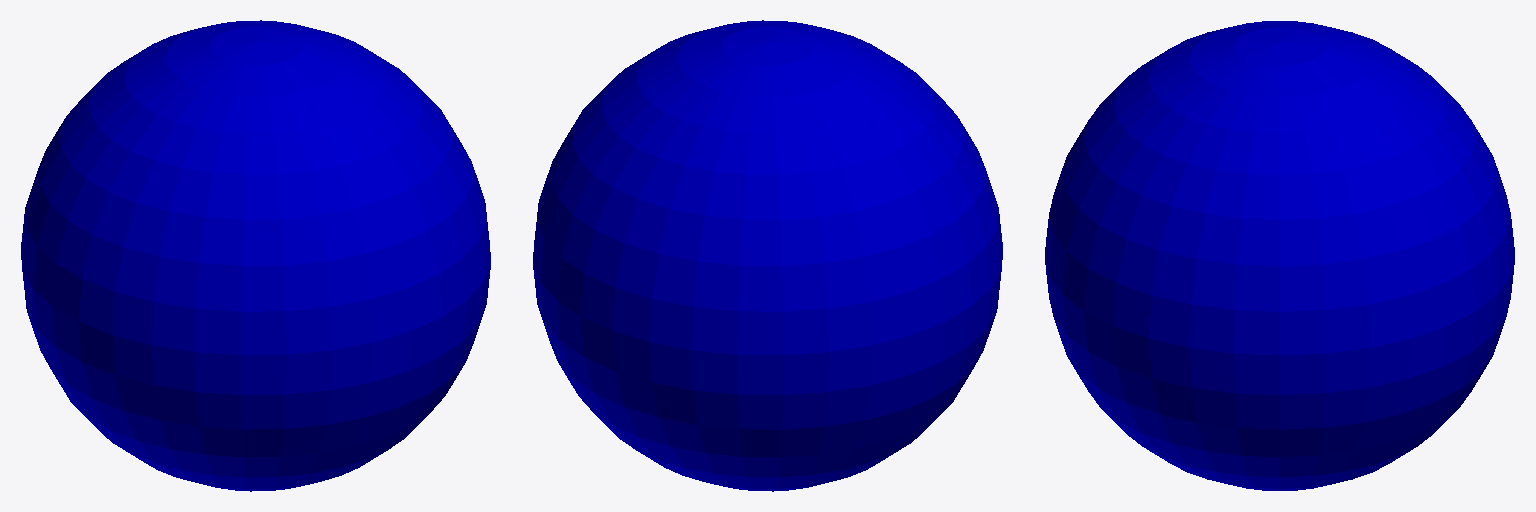
The robot description file, URDF, robot "kraft":
<?xml version="1.0" ?>
<!-- =================================================================================== -->
<!-- |    This document was autogenerated by xacro from kraft.xacro                    | -->
<!-- |    EDITING THIS FILE BY HAND IS NOT RECOMMENDED                                 | -->
<!-- =================================================================================== -->
<robot name="kraft" xmlns:xacro="http://www.ros.org/wiki/xacro">
  <material name="black">
    <color rgba="0.0 0.0 0.0 1.0"/>
  </material>
  <material name="blue">
    <color rgba="0.0 0.0 0.8 1.0"/>
  </material>
  <material name="green">
    <color rgba="0.0 0.8 0.0 1.0"/>
  </material>
  <material name="grey">
    <color rgba="0.2 0.2 0.2 1.0"/>
  </material>
  <material name="orange">
    <color rgba="1.0 0.423529411765 0.0392156862745 1.0"/>
  </material>
  <material name="brown">
    <color rgba="0.870588235294 0.811764705882 0.764705882353 1.0"/>
  </material>
  <material name="red">
    <color rgba="0.8 0.0 0.0 1.0"/>
  </material>
  <material name="white">
    <color rgba="1.0 1.0 1.0 1.0"/>
  </material>
  <material name="metal_seamed">
    <color rgba="0.4627450980392157 0.4666666666666667 0.4509803921568628 1.0"/>
  </material>
  <!-- Density: 1750 kg/m3 -->
  <!-- Create the grips robot -->
  <link name="world"/>
  <link name="base_link">
    <visual>
      <geometry>
        <mesh filename="package://kraft_description/meshes/visual/base.dae"/>
      </geometry>
      <material name="black"/>
    </visual>
    <collision>
      <origin rpy="0 0 0" xyz="0 0 0.00762"/>
      <geometry>
        <cylinder length="0.01524" radius="0.125"/>
      </geometry>
    </collision>
    <inertial>
      <origin rpy="0 0 0" xyz="0 0 0.00762"/>
      <mass value="1.208"/>
      <inertia ixx="0.0047421305984" ixy="0.0" ixz="0.0" iyy="0.0047421305984" iyz="0.0" izz="0.0094375"/>
    </inertial>
  </link>
  <link name="manifold">
    <visual>
      <geometry>
        <mesh filename="package://kraft_description/meshes/visual/manifold.dae"/>
      </geometry>
      <material name="black"/>
    </visual>
    <collision>
      <origin rpy="0 0 0" xyz="0 0 0.16906"/>
      <geometry>
        <cylinder length="0.33812" radius="0.205"/>
      </geometry>
    </collision>
    <inertial>
      <origin rpy="0 0 0" xyz="0 0 0.16906"/>
      <mass value="41.111"/>
      <inertia ixx="0.82359082711" ixy="0.0" ixz="0.0" iyy="0.82359082711" iyz="0.0" izz="0.8638448875"/>
    </inertial>
  </link>
  <link name="upper_arm">
    <visual>
      <geometry>
        <mesh filename="package://kraft_description/meshes/visual/upper_arm.dae"/>
      </geometry>
      <material name="black"/>
    </visual>
    <collision>
      <origin rpy="0 0 0" xyz="0 0 0.260835"/>
      <geometry>
        <cylinder length="0.52167" radius="0.075"/>
      </geometry>
    </collision>
    <inertial>
      <origin rpy="0 0 0" xyz="0 0 0.260835"/>
      <mass value="3.592"/>
      <inertia ixx="0.0865117002774" ixy="0.0" ixz="0.0" iyy="0.0865117002774" iyz="0.0" izz="0.0101025"/>
    </inertial>
  </link>
  <link name="forearm">
    <visual>
      <geometry>
        <mesh filename="package://kraft_description/meshes/visual/forearm.dae"/>
      </geometry>
      <material name="black"/>
    </visual>
    <collision>
      <origin rpy="1.57079632679 0 0" xyz="0 0.069139 0"/>
      <geometry>
        <cylinder length="0.385078" radius="0.075"/>
      </geometry>
    </collision>
    <inertial>
      <origin rpy="0 0 0" xyz="0 0.069139 0"/>
      <mass value="4.935"/>
      <inertia ixx="0.067922077177" ixy="0.0" ixz="0.0" iyy="0.0138796875" iyz="0.0" izz="0.067922077177"/>
    </inertial>
  </link>
  <link name="pitch">
    <visual>
      <geometry>
        <mesh filename="package://kraft_description/meshes/visual/pitch.dae"/>
      </geometry>
      <material name="black"/>
    </visual>
    <collision>
      <origin rpy="1.57079632679 0 0" xyz="0 0.0666115 0"/>
      <geometry>
        <cylinder length="0.133223" radius="0.075"/>
      </geometry>
    </collision>
    <inertial>
      <origin rpy="0 0 0" xyz="0 0.0666115 0"/>
      <mass value="0.679"/>
      <inertia ixx="0.00195910555733" ixy="0.0" ixz="0.0" iyy="0.0019096875" iyz="0.0" izz="0.00195910555733"/>
    </inertial>
  </link>
  <link name="yaw">
    <visual>
      <geometry>
        <mesh filename="package://kraft_description/meshes/visual/yaw.dae"/>
      </geometry>
      <material name="black"/>
    </visual>
    <collision>
      <origin rpy="1.57079632679 0 0" xyz="0 0.095446 0"/>
      <geometry>
        <cylinder length="0.190892" radius="0.085"/>
      </geometry>
    </collision>
    <inertial>
      <origin rpy="0 0 0" xyz="0 0.095446 0"/>
      <mass value="4.689"/>
      <inertia ixx="0.0227083407757" ixy="0.0" ixz="0.0" iyy="0.0169390125" iyz="0.0" izz="0.0227083407757"/>
    </inertial>
  </link>
  <link name="end_effector">
    <visual>
      <geometry>
        <sphere radius="0.01"/>
      </geometry>
      <material name="blue"/>
    </visual>
    <collision>
      <geometry>
        <sphere radius="0.01"/>
      </geometry>
    </collision>
    <inertial>
      <origin rpy="0 0 0" xyz="0 0 0.01"/>
      <mass value="0.05"/>
      <inertia ixx="2.91666666667e-06" ixy="0.0" ixz="0.0" iyy="2.91666666667e-06" iyz="0.0" izz="2.5e-06"/>
    </inertial>
  </link>
  <!-- Joints -->
  <joint name="anchor" type="fixed">
    <origin rpy="0 0 0" xyz="0 0 0.001"/>
    <parent link="world"/>
    <child link="base_link"/>
  </joint>
  <joint name="SA" type="revolute">
    <child link="manifold"/>
    <parent link="base_link"/>
    <axis xyz="0 0 1"/>
    <origin rpy="0 0 0" xyz="0 0 0.01524"/>
    <limit effort="400" lower="-1.57079632679" upper="1.57079632679" velocity="10"/><!--"1.3962634016"/-->
    <dynamics damping="5"/>
  </joint>
  <joint name="SE" type="revolute">
    <child link="upper_arm"/>
    <parent link="manifold"/>
    <axis xyz="1 0 0"/>
    <origin rpy="0 0 0" xyz="0 0 0.33812"/>
    <limit effort="400" lower="-1.57079632679" upper="0.523598775598" velocity="10"/><!--"1.1344640138"/-->
    <dynamics damping="5" friction="10"/>
  </joint>
  <joint name="linkage_tr" type="revolute">
    <child link="forearm"/>
    <parent link="upper_arm"/>
    <axis xyz="1 0 0"/>
    <origin rpy="0 0 0" xyz="0 -9.82e-3 0.52167"/>
    <limit effort="400" lower="-0.698131700798" upper="1.2217304764" velocity="10"/><!--"0.872664625997"/-->
    <dynamics damping="10"/>
  </joint>
  <joint name="WP" type="revolute">
    <child link="pitch"/>
    <parent link="forearm"/>
    <axis xyz="1 0 0"/>
    <origin rpy="0 0 0" xyz="0 0.26109 7.5e-3"/>
    <limit effort="400" lower="-0.610865238198" upper="1.1344640138" velocity="10"/><!--"1.74532925199"/-->
    <dynamics damping="5"/>
  </joint>
  <joint name="WY" type="revolute">
    <child link="yaw"/>
    <parent link="pitch"/>
    <axis xyz="0 0 1"/>
    <origin rpy="0 0 0" xyz="0 0.133223 0"/>
    <limit effort="400" lower="-0.680678408278" upper="1.15191730632" velocity="10"/><!--"2.00712863979"/-->
    <dynamics damping="5"/>
  </joint>
  <joint name="WR" type="revolute">
    <child link="end_effector"/>
    <parent link="yaw"/>
    <axis xyz="0 1 0"/>
    <origin rpy="0 0 0" xyz="-0.787e-3 0.190892 0.051331"/>
    <limit effort="400" lower="-0.0349065850399" upper="0.0349065850399" velocity="10"/><!--"3.49065850399"/-->
    <dynamics damping="0.5"/>
  </joint>
  <transmission name="SA_tran" type="transmission_interface/SimpleTransmission">
    <type>transmission_interface/SimpleTransmission</type>
    <joint name="SA">
      <!--hardwareInterface>hardware_interface/EffortJointInterface</hardwareInterface-->
      <hardwareInterface>hardware_interface/PositionJointInterface</hardwareInterface>
    </joint>
    <actuator name="SA_motor">
      <!--hardwareInterface>hardware_interface/EffortJointInterface</hardwareInterface-->
      <hardwareInterface>hardware_interface/PositionJointInterface</hardwareInterface>
      <mechanicalReduction>1</mechanicalReduction>
    </actuator>
    <mechanicalReduction>1</mechanicalReduction>
  </transmission>
  <transmission name="SE_tran" type="transmission_interface/SimpleTransmission">
    <type>transmission_interface/SimpleTransmission</type>
    <joint name="SE">
      <!--hardwareInterface>hardware_interface/EffortJointInterface</hardwareInterface-->
      <hardwareInterface>hardware_interface/PositionJointInterface</hardwareInterface>
    </joint>
    <actuator name="SE_motor">
      <!--hardwareInterface>hardware_interface/EffortJointInterface</hardwareInterface-->
      <hardwareInterface>hardware_interface/PositionJointInterface</hardwareInterface>
      <mechanicalReduction>1</mechanicalReduction>
    </actuator>
    <mechanicalReduction>1</mechanicalReduction>
  </transmission>
  <transmission name="linkage_tr_tran" type="transmission_interface/SimpleTransmission">
    <type>transmission_interface/SimpleTransmission</type>
    <joint name="linkage_tr">
      <!--hardwareInterface>hardware_interface/EffortJointInterface</hardwareInterface-->
      <hardwareInterface>hardware_interface/PositionJointInterface</hardwareInterface>
    </joint>
    <actuator name="linkage_tr_motor">
      <!--hardwareInterface>hardware_interface/EffortJointInterface</hardwareInterface-->
      <hardwareInterface>hardware_interface/PositionJointInterface</hardwareInterface>
      <mechanicalReduction>1</mechanicalReduction>
    </actuator>
    <mechanicalReduction>1</mechanicalReduction>
  </transmission>
  <transmission name="WP_tran" type="transmission_interface/SimpleTransmission">
    <type>transmission_interface/SimpleTransmission</type>
    <joint name="WP">
      <!--hardwareInterface>hardware_interface/EffortJointInterface</hardwareInterface-->
      <hardwareInterface>hardware_interface/PositionJointInterface</hardwareInterface>
    </joint>
    <actuator name="WP_motor">
      <!--hardwareInterface>hardware_interface/EffortJointInterface</hardwareInterface-->
      <hardwareInterface>hardware_interface/PositionJointInterface</hardwareInterface>
      <mechanicalReduction>1</mechanicalReduction>
    </actuator>
    <mechanicalReduction>1</mechanicalReduction>
  </transmission>
  <transmission name="WY_tran" type="transmission_interface/SimpleTransmission">
    <type>transmission_interface/SimpleTransmission</type>
    <joint name="WY">
      <!--hardwareInterface>hardware_interface/EffortJointInterface</hardwareInterface-->
      <hardwareInterface>hardware_interface/PositionJointInterface</hardwareInterface>
    </joint>
    <actuator name="WY_motor">
      <!--hardwareInterface>hardware_interface/EffortJointInterface</hardwareInterface-->
      <hardwareInterface>hardware_interface/PositionJointInterface</hardwareInterface>
      <mechanicalReduction>1</mechanicalReduction>
    </actuator>
    <mechanicalReduction>1</mechanicalReduction>
  </transmission>
  <transmission name="WR_tran" type="transmission_interface/SimpleTransmission">
    <type>transmission_interface/SimpleTransmission</type>
    <joint name="WR">
      <!--hardwareInterface>hardware_interface/EffortJointInterface</hardwareInterface-->
      <hardwareInterface>hardware_interface/PositionJointInterface</hardwareInterface>
    </joint>
    <actuator name="WR_motor">
      <!--hardwareInterface>hardware_interface/EffortJointInterface</hardwareInterface-->
      <hardwareInterface>hardware_interface/PositionJointInterface</hardwareInterface>
      <mechanicalReduction>1</mechanicalReduction>
    </actuator>
    <mechanicalReduction>1</mechanicalReduction>
  </transmission>
  <gazebo reference="base_link">
    <material>Telerobcar/MetalSeamed</material>
    <selfCollide>false</selfCollide>
  </gazebo>
  <gazebo reference="manifold">
    <material>Telerobcar/MetalSeamed</material>
    <selfCollide>false</selfCollide>
  </gazebo>
  <gazebo reference="upper_arm">
    <material>Telerobcar/MetalSeamed</material>
    <selfCollide>false</selfCollide>
  </gazebo>
  <gazebo reference="forearm">
    <material>Telerobcar/MetalSeamed</material>
    <selfCollide>false</selfCollide>
  </gazebo>
  <gazebo reference="pitch">
    <material>Telerobcar/MetalSeamed</material>
    <selfCollide>false</selfCollide>
  </gazebo>
  <gazebo reference="yaw">
    <material>Telerobcar/MetalSeamed</material>
    <selfCollide>false</selfCollide>
  </gazebo>
  <gazebo reference="end_effector">
    <selfCollide>false</selfCollide>
  </gazebo>
  <link name="wrist_coupling">
    <visual>
      <geometry>
        <mesh filename="package://kraft_description/meshes/visual/wrist_coupling.dae"/>
      </geometry>
      <material name="white"/>
    </visual>
    <collision>
      <origin rpy="0 0 0" xyz="0 0 0.0095"/>
      <geometry>
        <cylinder length="0.019" radius="0.0238"/>
      </geometry>
    </collision>
    <inertial>
      <origin rpy="0 0 0" xyz="0 0 0.0095"/>
      <mass value="0.059"/>
      <inertia ixx="1.01299066667e-05" ixy="0.0" ixz="0.0" iyy="1.01299066667e-05" iyz="0.0" izz="1.670998e-05"/>
    </inertial>
  </link>
  <link name="ft_coupling">
    <visual>
      <geometry>
        <mesh filename="package://kraft_description/meshes/visual/ft_coupling.dae"/>
      </geometry>
      <material name="white"/>
    </visual>
    <!-- Align the collision with the mess. It has an offset of 4.7 mm -->
    <collision>
      <origin rpy="0 0 0" xyz="0 0 0.0142"/>
      <geometry>
        <cylinder length="0.019" radius="0.0337"/>
      </geometry>
    </collision>
    <inertial>
      <origin rpy="0 0 0" xyz="0 0 0.0142"/>
      <mass value="0.1478"/>
      <inertia ixx="4.64100621667e-05" ixy="0.0" ixz="0.0" iyy="4.64100621667e-05" iyz="0.0" izz="8.3927491e-05"/>
    </inertial>
  </link>
  <link name="ft_sensor">
    <visual>
      <origin rpy="-1.57079632679 0 0" xyz="0 0 0"/>
      <geometry>
        <mesh filename="package://kraft_description/meshes/visual/ft_sensor.dae"/>
      </geometry>
      <material name="white"/>
    </visual>
    <collision>
      <origin rpy="0 0 0" xyz="0 0 -0.014"/>
      <geometry>
        <cylinder length="0.028" radius="0.037"/>
      </geometry>
    </collision>
    <inertial>
      <origin rpy="0 0 0" xyz="0 0 -0.014"/>
      <mass value="0.2396"/>
      <inertia ixx="9.76569666667e-05" ixy="0.0" ixz="0.0" iyy="9.76569666667e-05" iyz="0.0" izz="0.0001640062"/>
    </inertial>
  </link>
  <!-- Joints -->
  <joint name="ft_robot_joint" type="fixed">
    <origin rpy="-1.57079632679 0 0" xyz="0 0 0"/>
    <parent link="end_effector"/>
    <child link="wrist_coupling"/>
  </joint>
  <joint name="ft_wrist_joint" type="fixed">
    <origin rpy="0 0 0" xyz="0 0 0"/>
    <parent link="wrist_coupling"/>
    <child link="ft_coupling"/>
  </joint>
  <joint name="ft_sensor_joint" type="fixed">
    <origin rpy="0 0 0" xyz="0 0 0.0517"/>
    <parent link="ft_coupling"/>
    <child link="ft_sensor"/>
  </joint>
  <!-- ros_control plugin  -->
  <gazebo>
    <plugin filename="libgazebo_ros_control.so" name="ros_control"/>
  </gazebo>
  <gazebo>
    <plugin filename="libgazebo_ros_joint_state_publisher.so" name="joint_state_publisher">
      <jointName>SA, SE, linkage_tr, WP, WY, WR</jointName>
    </plugin>
  </gazebo>
</robot>

--- Render facts (derived) ---
The picture shows the robot from 3 angles, left to right: view 1: azimuth 30°, elevation 25°; view 2: azimuth 150°, elevation 25°; view 3: azimuth 270°, elevation 25°; orthographic projection.
Model kraft with 11 links and 10 joints (6 revolute, 4 fixed), rooted at world, posed every joint at zero.
Links seen in each view (by area): view 1: end_effector; view 2: end_effector; view 3: end_effector.
Boxes of the visible links, x1,y1,x2,y2 form: end_effector: (21,20,490,491); end_effector: (533,20,1002,491); end_effector: (1045,21,1514,490).
Size in the robot's own frame: 0.02 by 0.02 by 0.02 metres.
0 mesh visuals loaded from 9 distinct referenced files (none loaded); not drawn: 9 (reference not matched to a file when rendering).